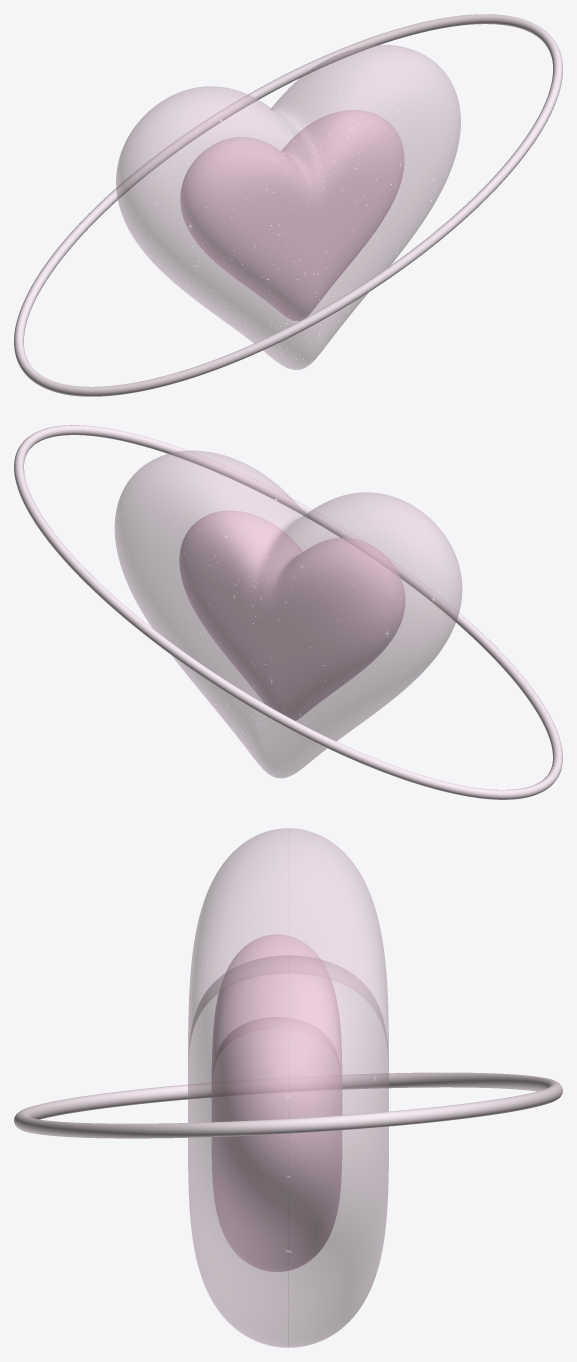
The model's file is pink-heart-orbit.glb.
The picture shows the model from 3 angles, top to bottom: view 1: azimuth 30°, elevation 25°; view 2: azimuth 150°, elevation 25°; view 3: azimuth 270°, elevation 25°; orthographic projection. The views are drawn at different scales.
Parts seen in each view (by area): view 1: Clear blush outer heart, Pastel pink inner heart, Polished metallic orbit ring; view 2: Clear blush outer heart, Pastel pink inner heart, Polished metallic orbit ring; view 3: Clear blush outer heart, Pastel pink inner heart, Polished metallic orbit ring.
Part boxes in pixels (x1,y1,x2,y2): Clear blush outer heart: [116, 45, 460, 369]; Pastel pink inner heart: [180, 110, 403, 320]; Polished metallic orbit ring: [14, 14, 562, 396]; Clear blush outer heart: [114, 450, 462, 778]; Pastel pink inner heart: [179, 511, 404, 720]; Polished metallic orbit ring: [14, 425, 562, 799]; Clear blush outer heart: [188, 828, 388, 1347]; Pastel pink inner heart: [211, 934, 342, 1271]; Polished metallic orbit ring: [14, 1072, 562, 1138].
Size of the model in its own units: 3.1 by 1.69 by 1.91.
